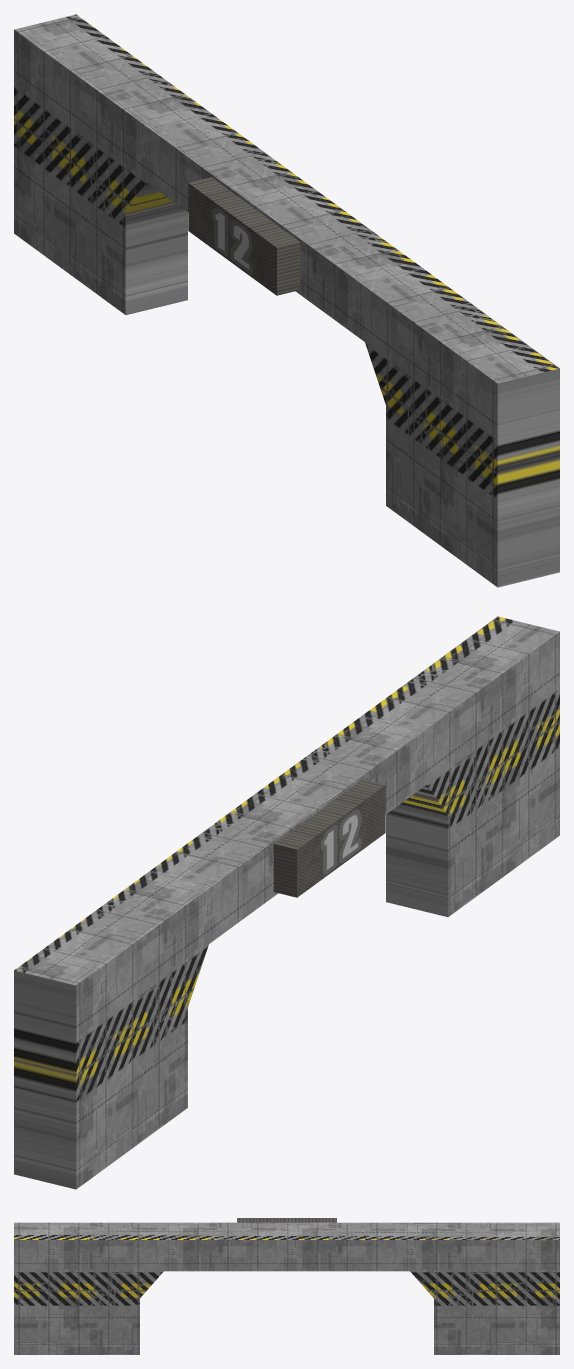
File: gate.fbx
The picture shows the model from 3 angles, top to bottom: view 1: azimuth 30°, elevation 25°; view 2: azimuth 150°, elevation 25°; view 3: azimuth 270°, elevation 25°; orthographic projection. The views are drawn at different scales.
Visible parts, largest first — view 1: Gate; view 2: Gate; view 3: Gate.
Boxes of the visible parts, <box> form: Gate: <box>14,14,559,587</box>; Gate: <box>14,616,559,1189</box>; Gate: <box>14,1218,559,1354</box>.
Size of the model in its own units: 860 by 87.86 by 200.
